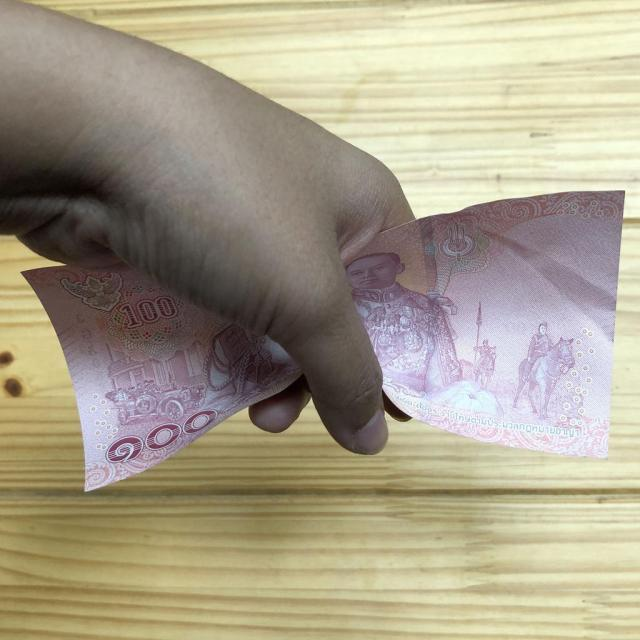THAI100: (347, 191, 627, 461), (22, 257, 302, 495)
